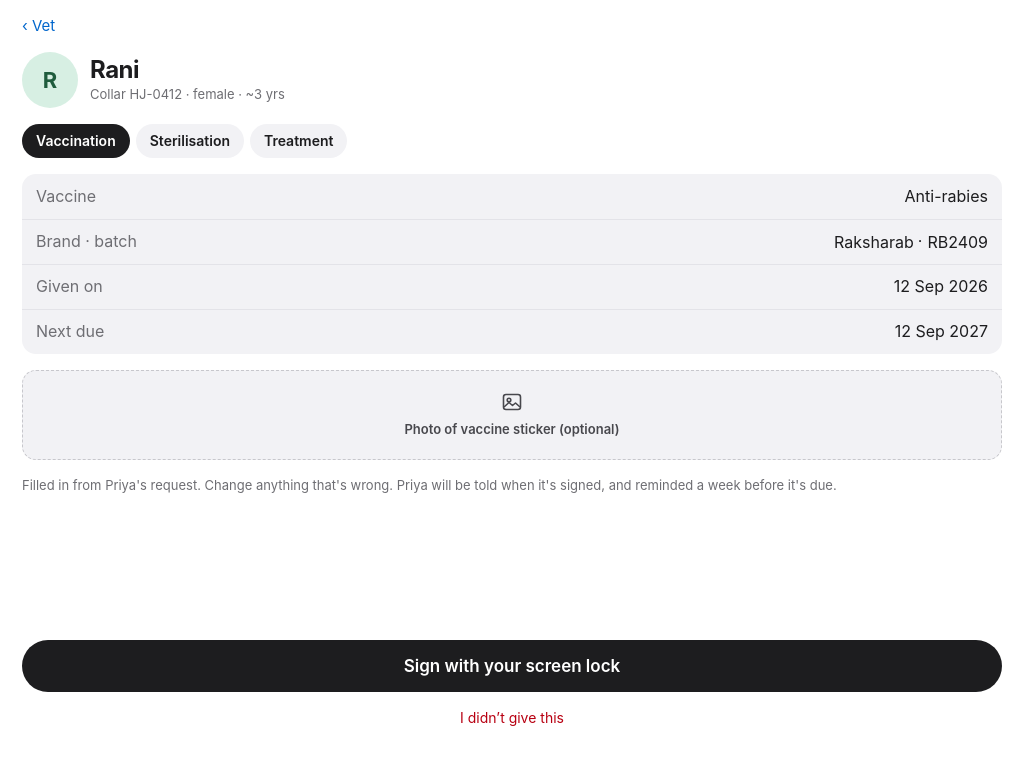
Test: V3 sign a record › "I didn't give this" declines the request
The image size is (1024, 768).
Click the button "I didn’t give this".
click(512, 718)  # box [448,696,576,740]
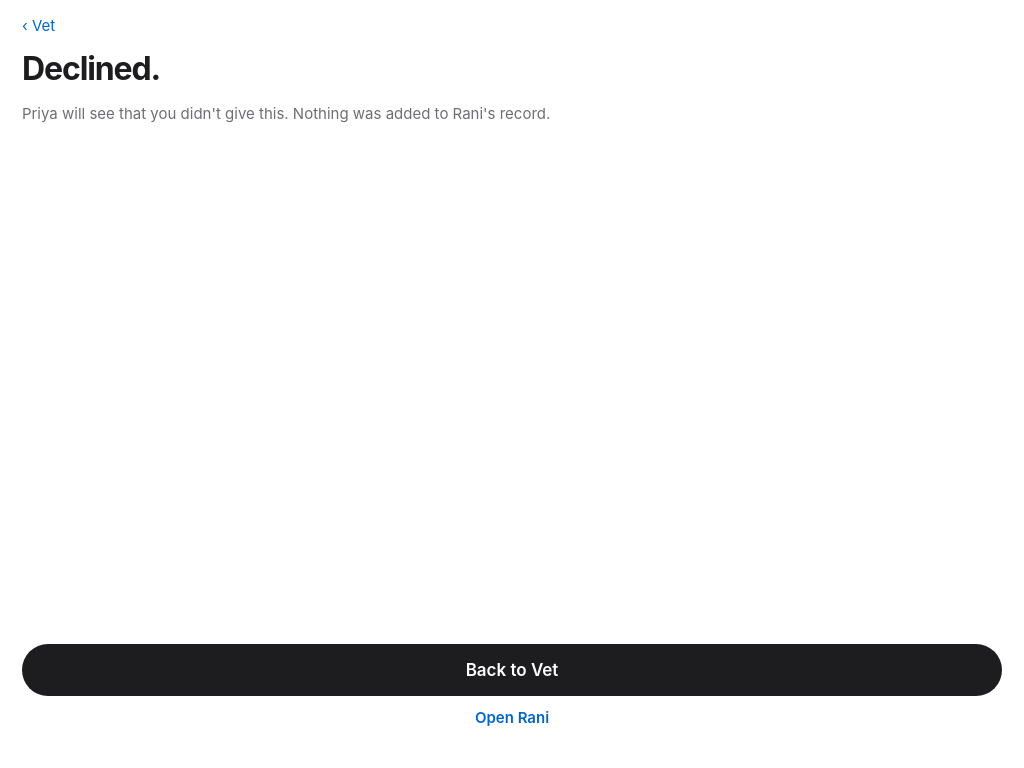
Expected: the heading "Declined." is shown, [22,49,160,88]
